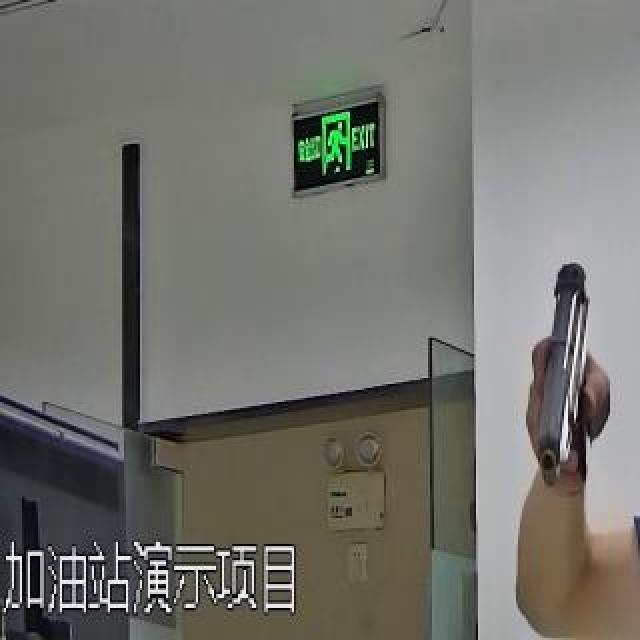Guns: (505, 241, 625, 509)
